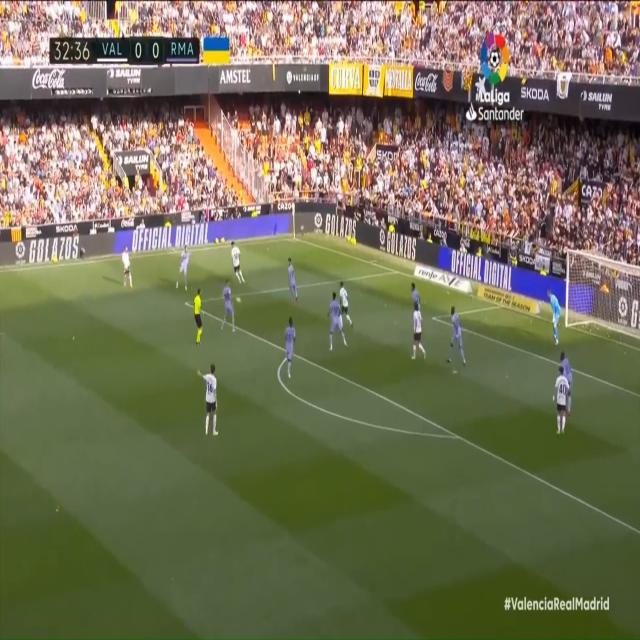ball: (234, 293, 243, 307)
goalkeeper: (545, 287, 567, 347)
player: (196, 364, 223, 445), (445, 300, 469, 382), (551, 363, 572, 433), (326, 289, 347, 356), (559, 348, 578, 415), (171, 241, 192, 300), (410, 306, 428, 372), (119, 241, 138, 298), (284, 317, 300, 383), (227, 233, 246, 286), (220, 280, 236, 337), (405, 281, 423, 325), (339, 280, 353, 336), (285, 253, 298, 302)
referee: (192, 285, 210, 348)
